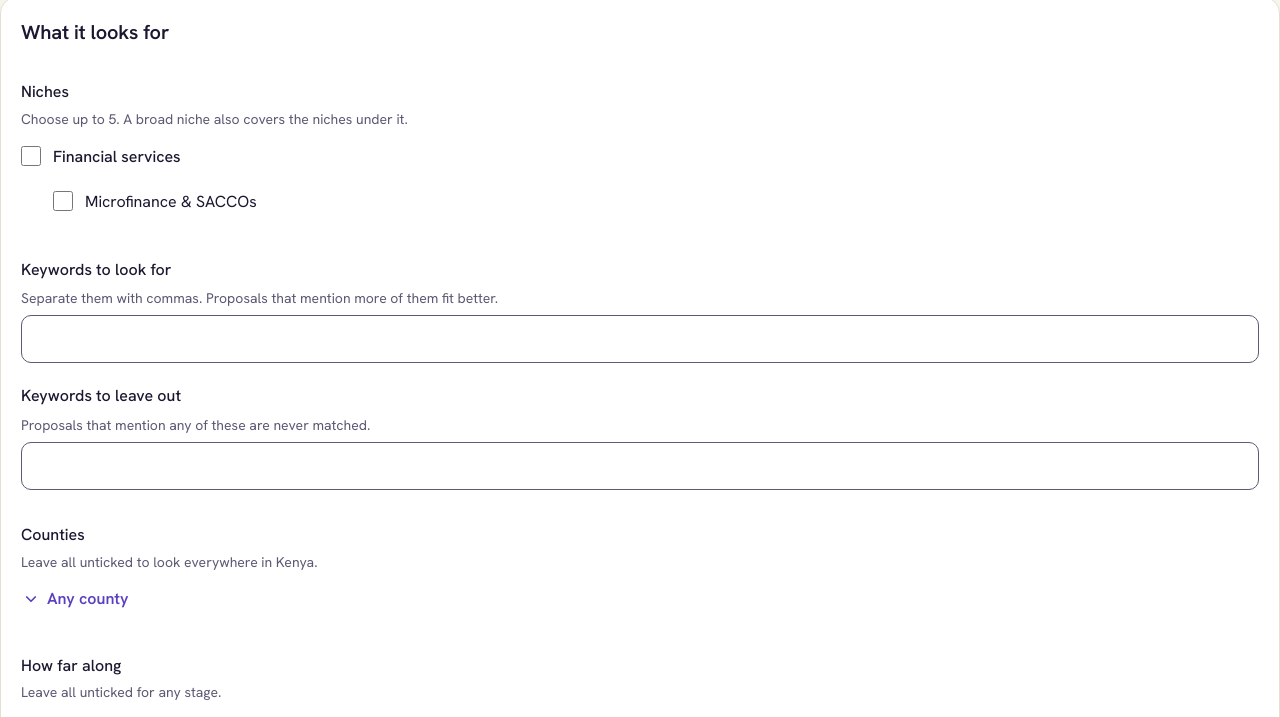
Test: the scout form › shows Preview with the on_new note and the handle, saving nothing
Click the checkbox labelled "Microfinance & SACCOs": (63, 201) x1=53 y1=191 x2=73 y2=211
(page scrolled)
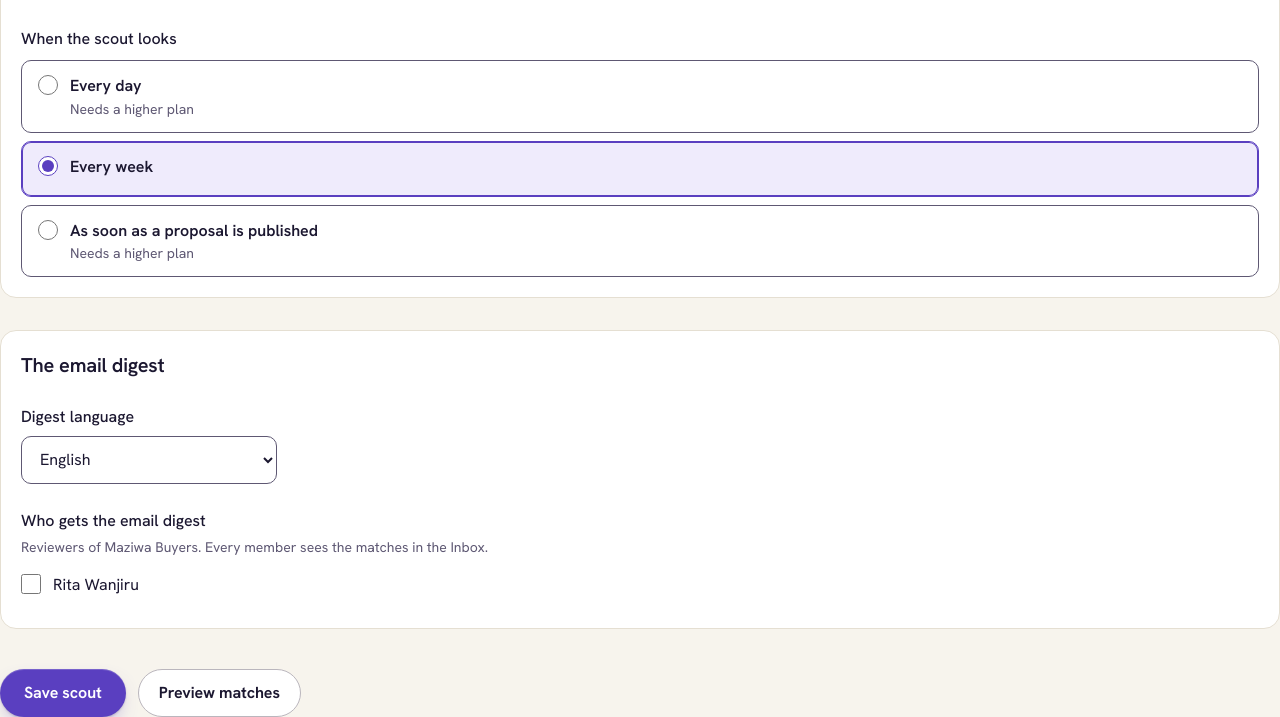
Click the button "Preview matches": (219, 693) x1=138 y1=669 x2=301 y2=716
(page scrolled)
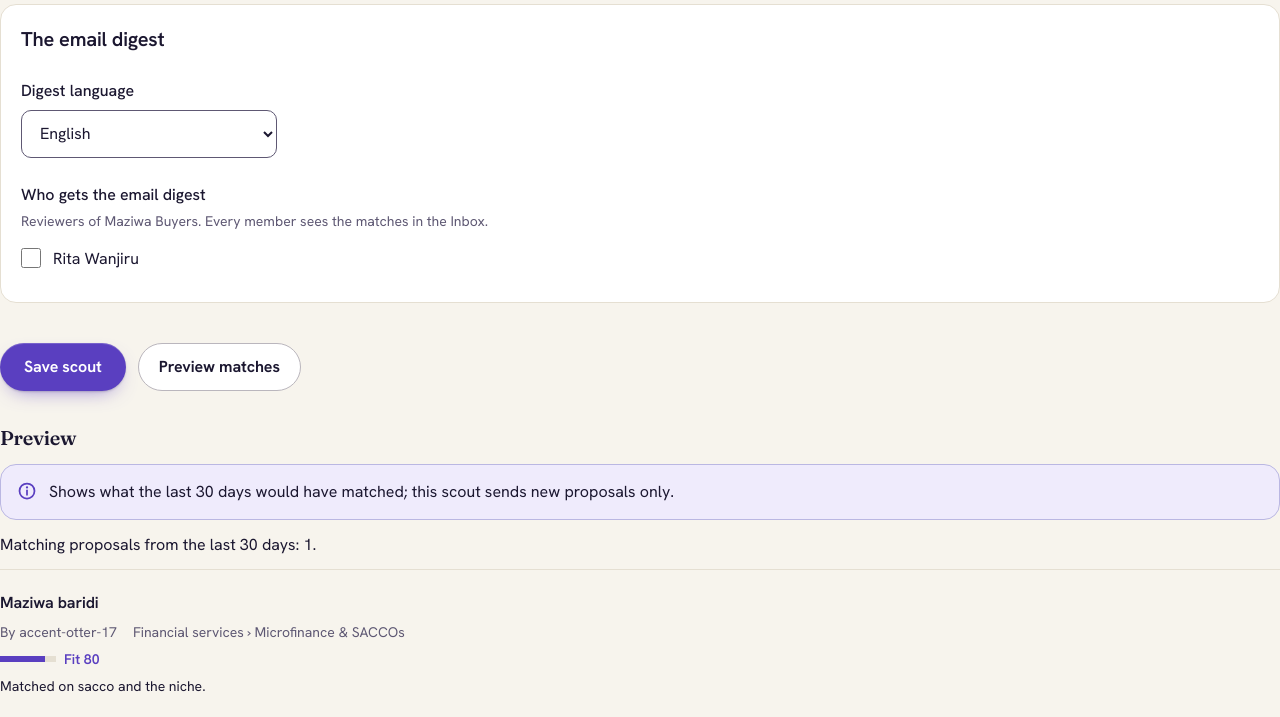
Check: the text "Shows what the last 30 days would have matched; this scout sends new proposals only." is shown, box x1=49 y1=481 x2=674 y2=502
Check: the element that starts with "Preview" shows "By accent-otter-17", box x1=0 y1=623 x2=117 y2=641
Check: the element that starts with "Preview" shows "Matching proposals from the last 30 days: 1.", box x1=0 y1=534 x2=316 y2=554
